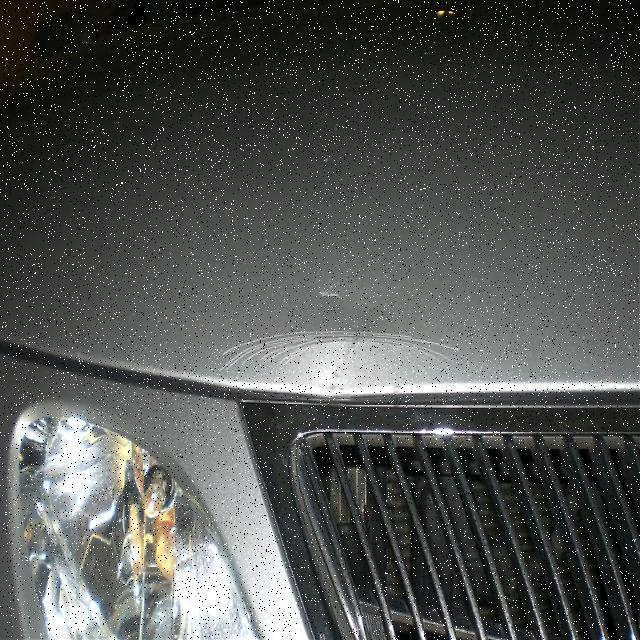bonnet-dent: (0, 4, 639, 506)
